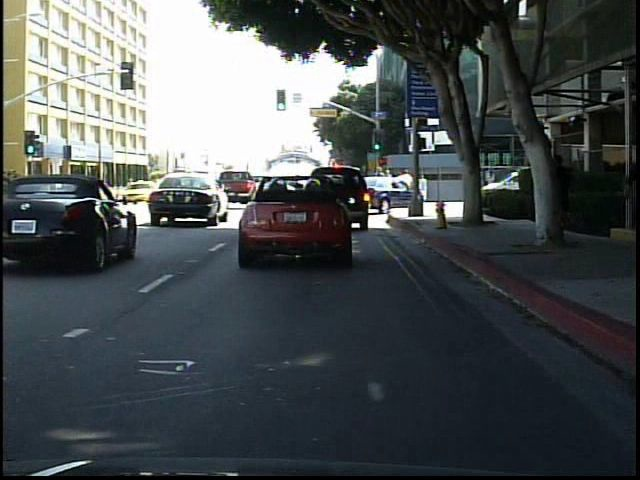person: (540, 148, 569, 238), (131, 176, 134, 192)
